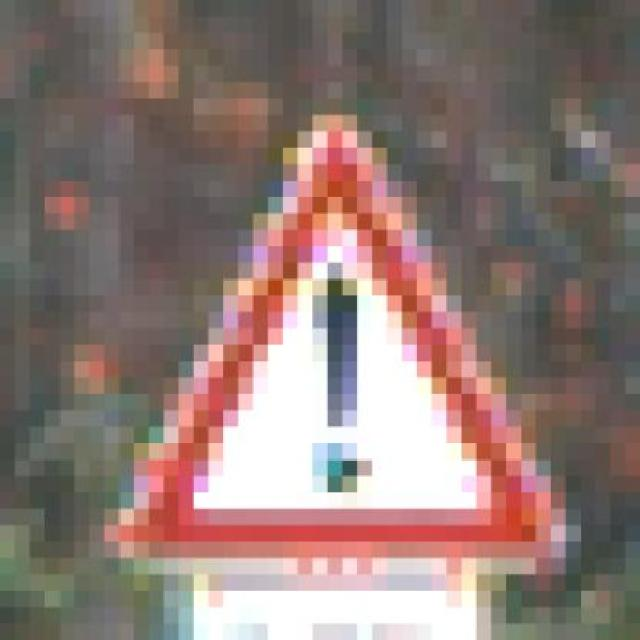Attention Please-: (89, 82, 611, 590)
